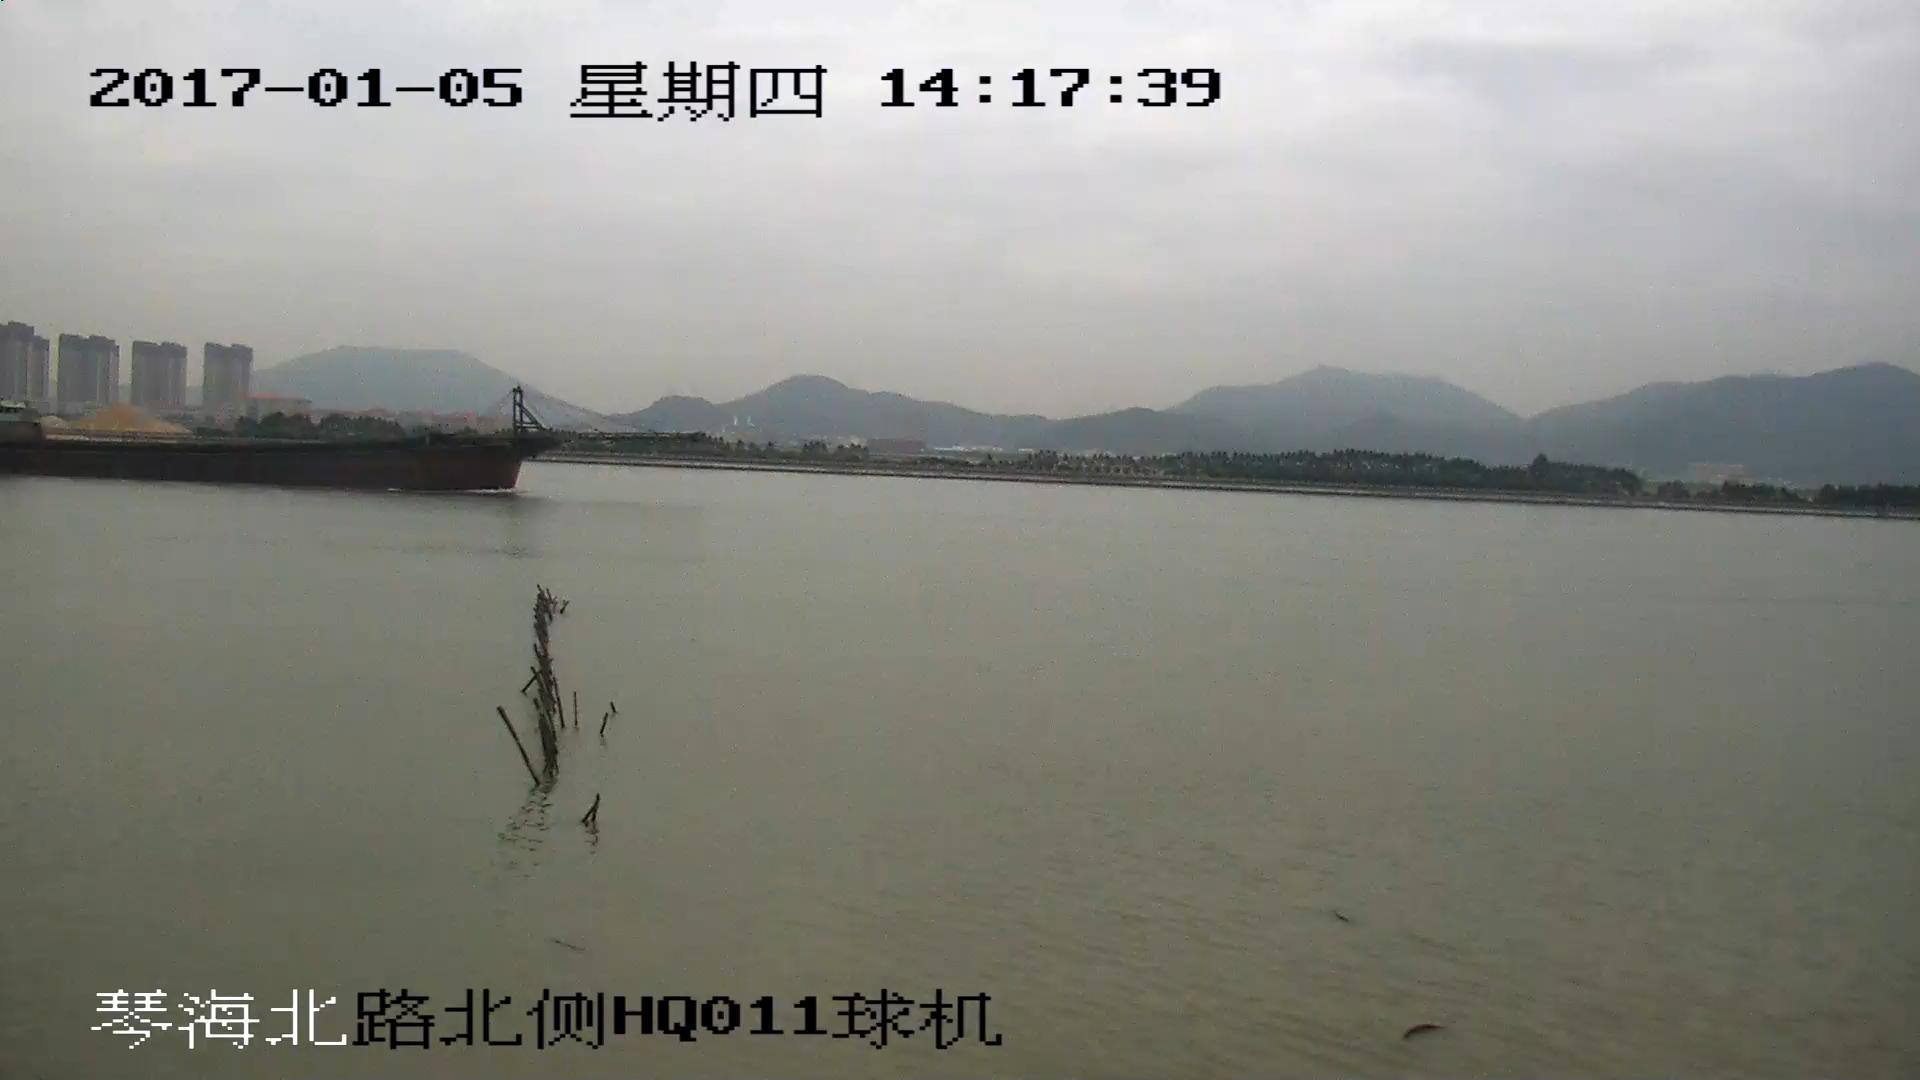Ship: (3, 382, 704, 497)
